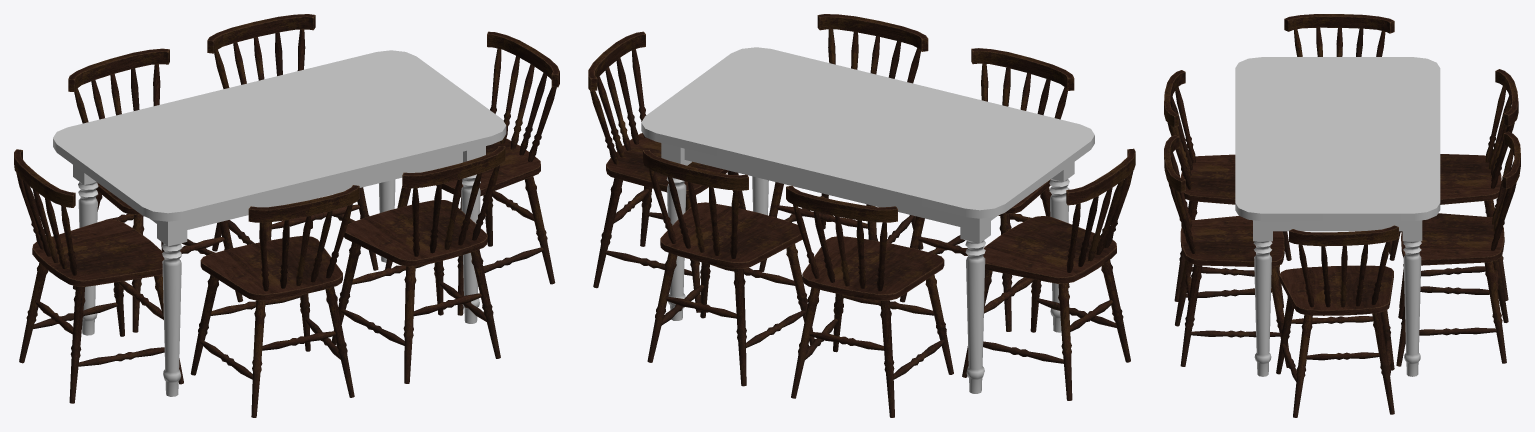
3 views of the same model, side by side, from view 1: azimuth 30°, elevation 25°; view 2: azimuth 150°, elevation 25°; view 3: azimuth 270°, elevation 25° (orthographic). The views are drawn at different scales.
Parts seen in each view (by area): view 1: Table, Chair.004, Chair.005, Chair.003, Chair, Chair.002, Chair.001; view 2: Table, Chair.002, Chair.001, Chair.003, Chair, Chair.004, Chair.005; view 3: Table, Chair, Chair.001, Chair.005, Chair.002, Chair.004, Chair.003.
Boxes of the visible parts, x1=… form: Table: x1=53, y1=50, x2=506, y2=396; Chair.004: x1=190, y1=185, x2=359, y2=417; Chair.005: x1=331, y1=146, x2=505, y2=383; Chair.003: x1=14, y1=149, x2=183, y2=403; Chair: x1=385, y1=31, x2=559, y2=315; Chair.002: x1=68, y1=48, x2=242, y2=332; Chair.001: x1=207, y1=14, x2=378, y2=270; Table: x1=641, y1=47, x2=1094, y2=393; Chair.002: x1=786, y1=185, x2=953, y2=417; Chair.001: x1=643, y1=150, x2=814, y2=386; Chair.003: x1=962, y1=148, x2=1135, y2=400; Chair: x1=588, y1=31, x2=745, y2=312; Chair.004: x1=900, y1=48, x2=1074, y2=331; Chair.005: x1=759, y1=14, x2=928, y2=271; Table: x1=1235, y1=57, x2=1440, y2=376; Chair: x1=1276, y1=225, x2=1398, y2=417; Chair.001: x1=1396, y1=131, x2=1520, y2=366; Chair.005: x1=1164, y1=135, x2=1288, y2=367; Chair.002: x1=1389, y1=69, x2=1518, y2=307; Chair.004: x1=1164, y1=70, x2=1291, y2=307; Chair.003: x1=1284, y1=14, x2=1394, y2=254.
Bounding box in the file's own units: 2.13 × 0.8456 × 1.45.
